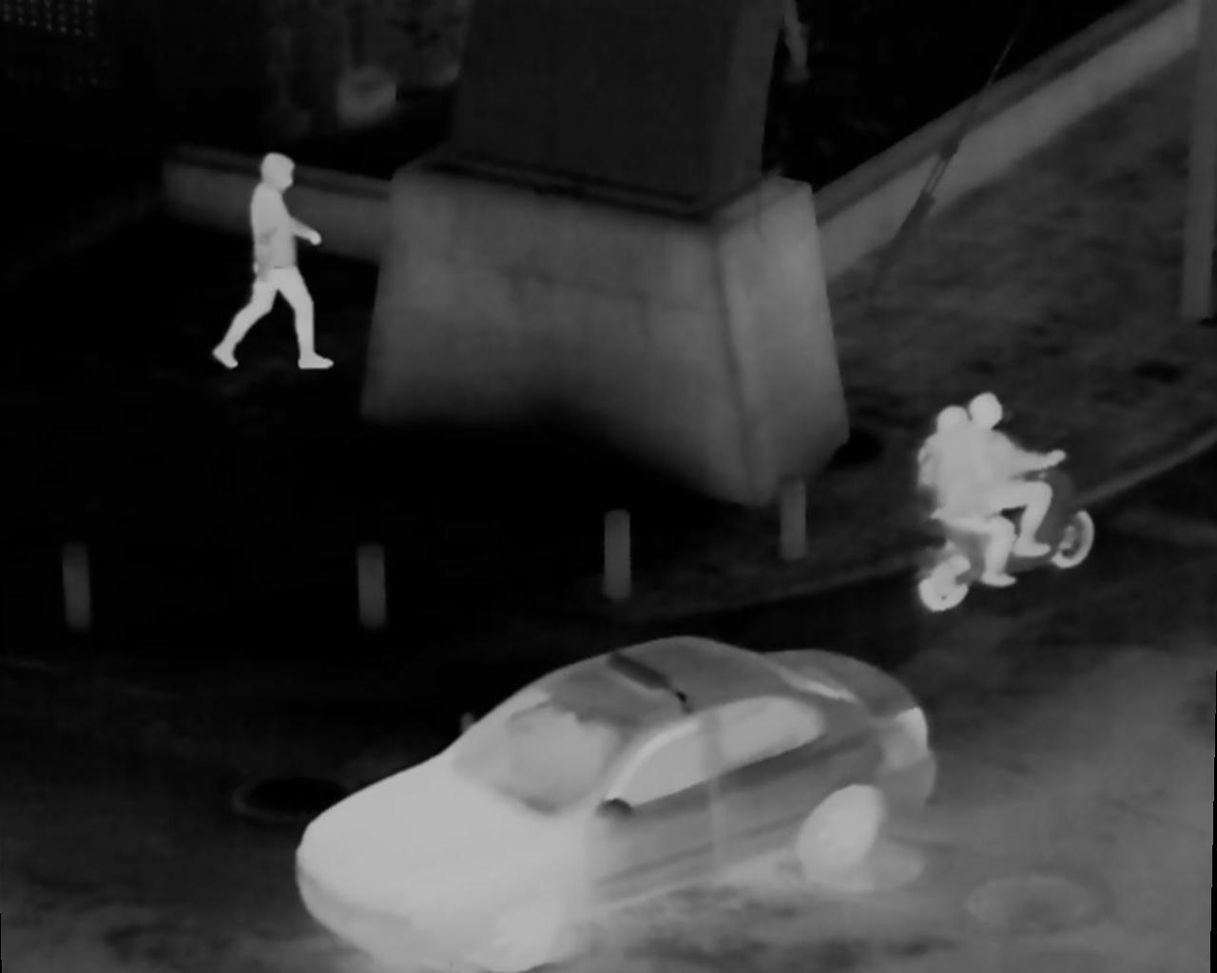person: (214, 155, 327, 377), (925, 407, 1016, 587), (970, 391, 1062, 559)
